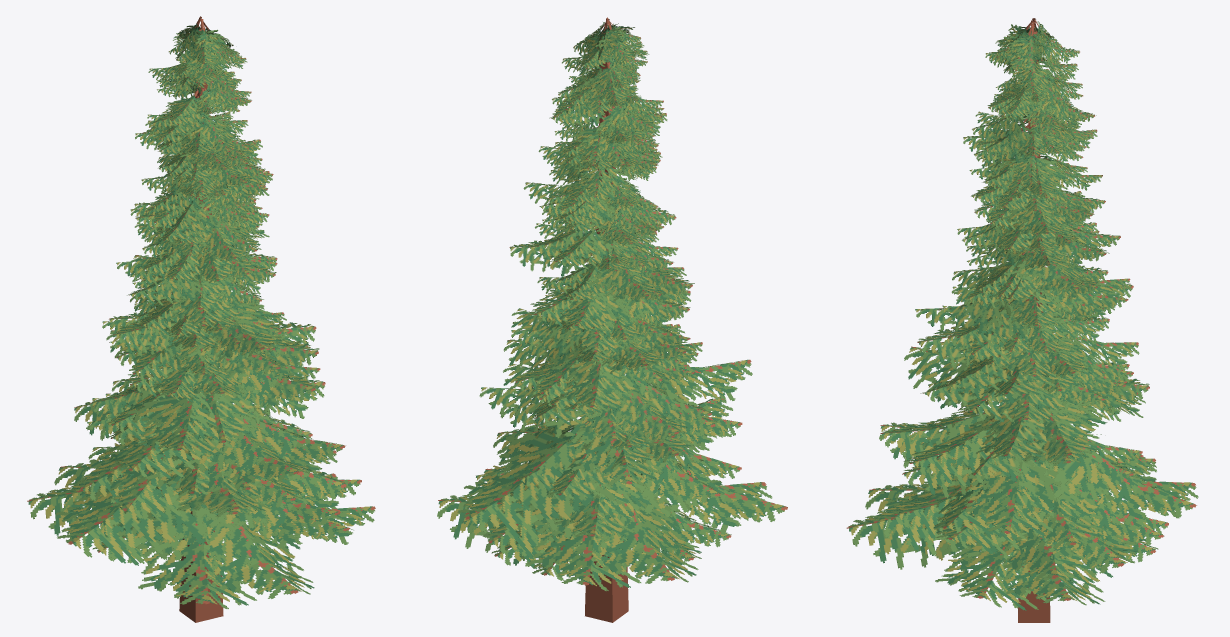
File: Capstone_Tree.fbx
The picture shows the model from 3 angles, left to right: view 1: azimuth 30°, elevation 25°; view 2: azimuth 150°, elevation 25°; view 3: azimuth 270°, elevation 25°; orthographic projection.
Visible parts, largest first — view 1: Leaves.095, Leaves.185, Leaves.005, Leaves.098, Leaves.008, Leaves.092, Leaves.186, Leaves.094, Leaves.188, Leaves.110, Leaves.106, Leaves.101 (+48 smaller); view 2: Leaves.093, Leaves.183, Leaves.003, Leaves.095, Leaves.096, Leaves.090, Leaves.102, Leaves.098, Leaves.012, Cube, Leaves.006, Leaves.186 (+55 smaller); view 3: Leaves.093, Leaves.097, Leaves.004, Leaves.188, Leaves.184, Leaves.196, Leaves.091, Leaves.100, Leaves.016, Leaves.094, Leaves.008, Leaves.185 (+54 smaller).
Boxes of the visible parts, x1,y1,x2,y2 form: Leaves.095: (55, 457, 217, 563); Leaves.185: (158, 493, 314, 598); Leaves.005: (118, 492, 276, 608); Leaves.098: (126, 391, 253, 456); Leaves.008: (183, 420, 310, 487); Leaves.092: (145, 455, 271, 512); Leaves.186: (109, 436, 220, 518); Leaves.094: (209, 492, 353, 548); Leaves.188: (229, 411, 345, 473); Leaves.110: (183, 296, 281, 361); Leaves.106: (212, 357, 319, 412); Leaves.101: (110, 415, 222, 478); Leaves.093: (457, 421, 614, 540); Leaves.183: (547, 476, 698, 583); Leaves.003: (515, 486, 663, 591); Leaves.095: (641, 457, 787, 534); Leaves.096: (544, 403, 661, 486); Leaves.090: (546, 467, 657, 539); Leaves.102: (550, 351, 649, 409); Leaves.098: (630, 359, 752, 411); Leaves.012: (591, 384, 686, 440); Cube: (585, 32, 628, 622); Leaves.006: (604, 451, 722, 503); Leaves.186: (647, 439, 741, 482); Leaves.093: (1053, 441, 1196, 525); Leaves.097: (952, 453, 1080, 538); Leaves.004: (935, 525, 1076, 610); Leaves.188: (903, 418, 1031, 486); Leaves.184: (965, 538, 1112, 605); Leaves.196: (995, 394, 1105, 460); Leaves.091: (1006, 460, 1104, 548); Leaves.100: (934, 454, 1060, 534); Leaves.016: (973, 400, 1078, 458); Leaves.094: (869, 456, 1015, 556); Leaves.008: (880, 407, 999, 469); Leaves.185: (846, 480, 978, 571).
Size of the model in its own units: 808 by 1360 by 791.
